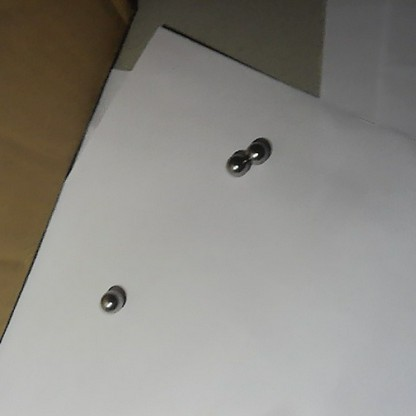ironball: (224, 148, 252, 176), (246, 138, 273, 165), (98, 288, 123, 316)
